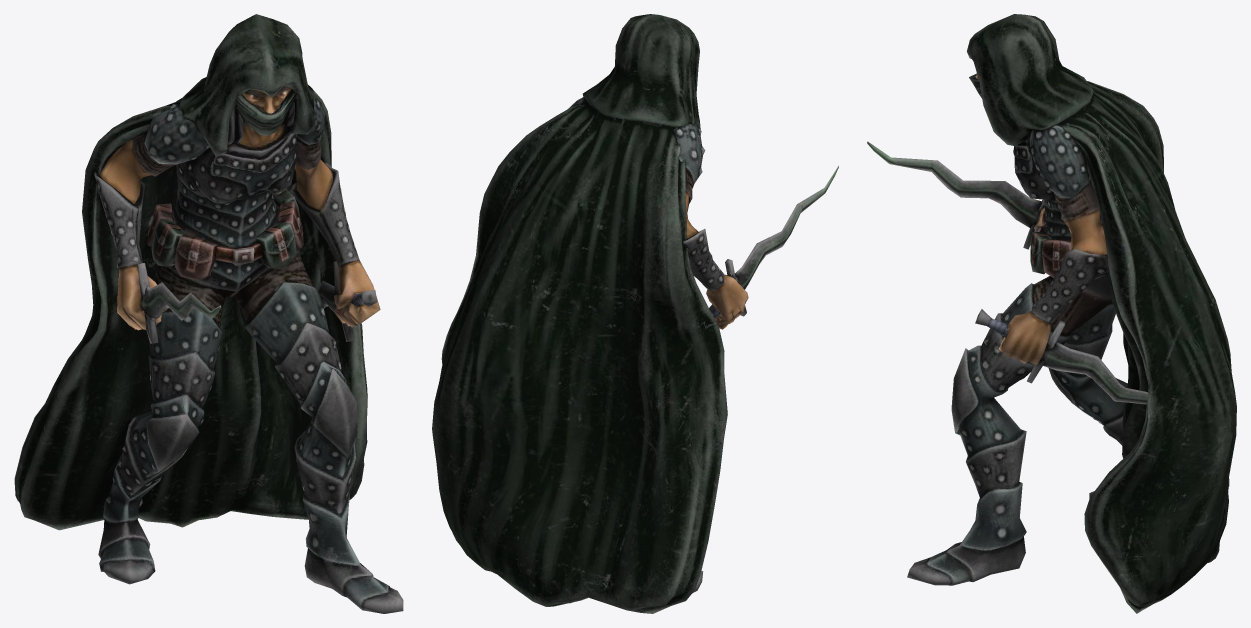
The model's file is MZ4250 - Assassin Female 01.glb.
The picture shows the model from 3 angles, left to right: view 1: azimuth 30°, elevation 25°; view 2: azimuth 150°, elevation 25°; view 3: azimuth 270°, elevation 25°; orthographic projection. The views are drawn at different scales.
Parts seen in each view (by area): view 1: AssassinFemale01; view 2: AssassinFemale01; view 3: AssassinFemale01.
Part boxes in pixels (x1,y1,x2,y2): AssassinFemale01: (14,14,403,613); AssassinFemale01: (432,14,838,613); AssassinFemale01: (867,14,1236,613).
Size of the model in its own units: 0.6698 by 1.2 by 0.745.
1 material, 1 textured.
